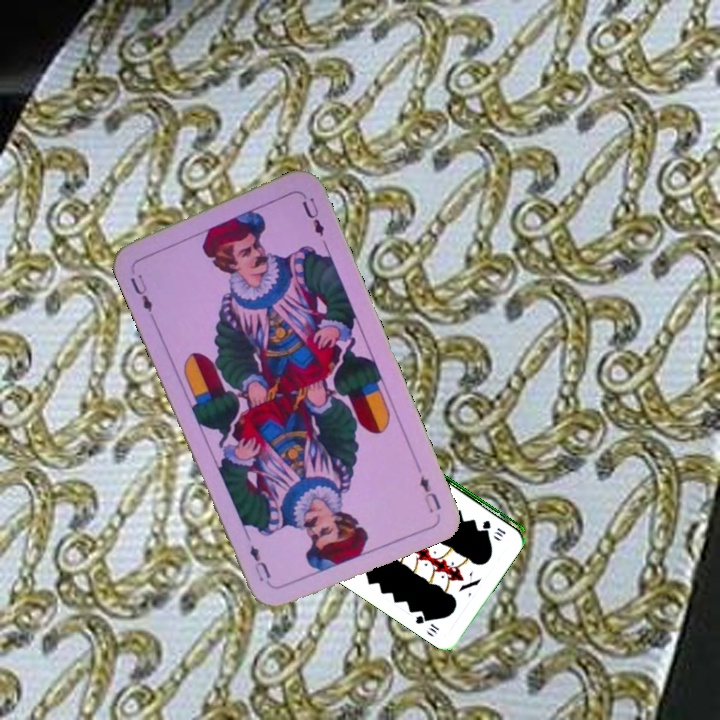EU: (126, 270, 155, 315), (415, 471, 444, 516)
G10: (479, 516, 508, 540)
